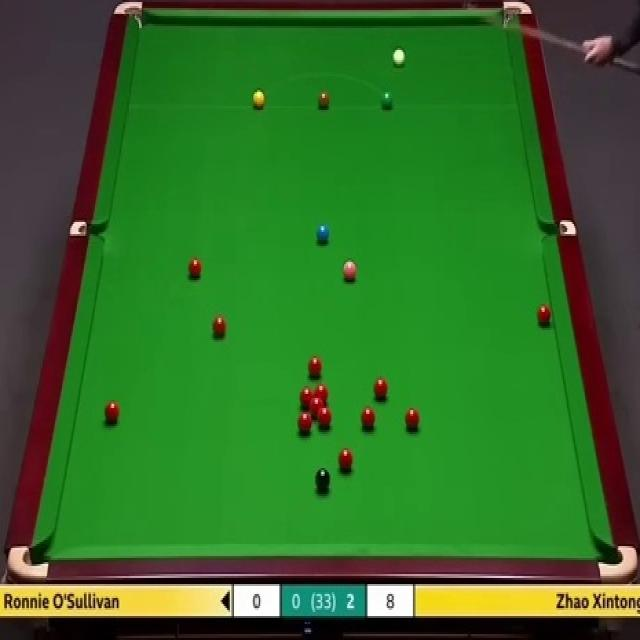pocket: (8, 542, 46, 583), (598, 545, 638, 580), (500, 2, 532, 29), (114, 0, 142, 28), (539, 218, 576, 238), (68, 220, 100, 235)
